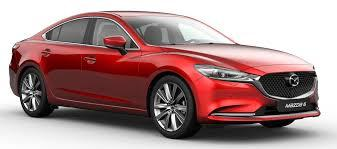mazda: (281, 69, 305, 90)
